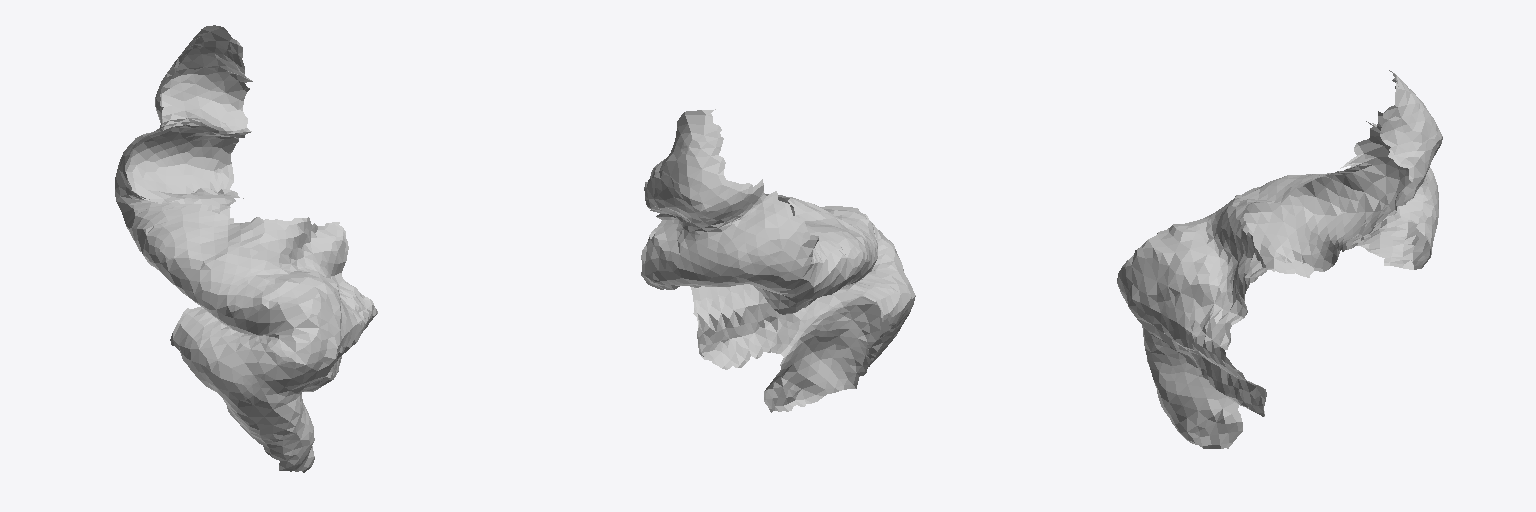
The model's file is R_frontal_inferior_operculum.obj.
3 views of the same model, side by side, from view 1: azimuth 30°, elevation 25°; view 2: azimuth 150°, elevation 25°; view 3: azimuth 270°, elevation 25° (orthographic).
Parts seen in each view (by area): view 1: R_frontal_inferior_operculum_L_frontal_inferior_operculum; view 2: R_frontal_inferior_operculum_L_frontal_inferior_operculum; view 3: R_frontal_inferior_operculum_L_frontal_inferior_operculum.
Boxes of the visible parts, <box> form: R_frontal_inferior_operculum_L_frontal_inferior_operculum: <box>115,25,377,472</box>; R_frontal_inferior_operculum_L_frontal_inferior_operculum: <box>641,109,915,412</box>; R_frontal_inferior_operculum_L_frontal_inferior_operculum: <box>1117,70,1442,448</box>.
Bounding box in the file's own units: 88.54 × 157 × 125.